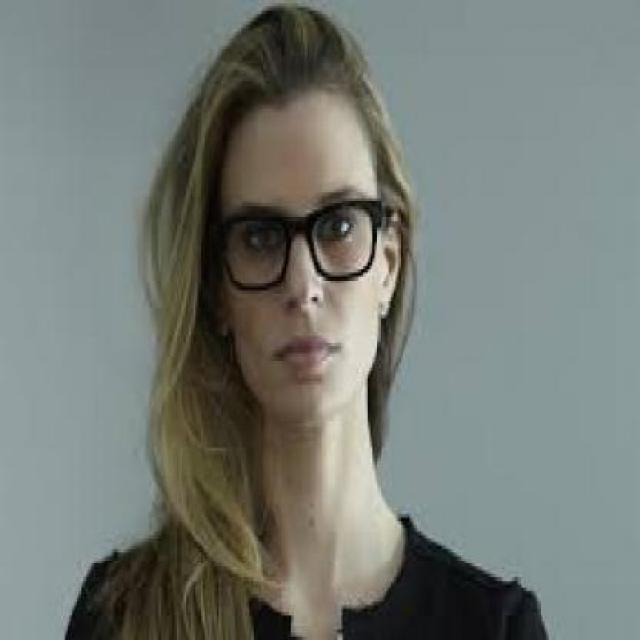glasses: (210, 178, 387, 298)
